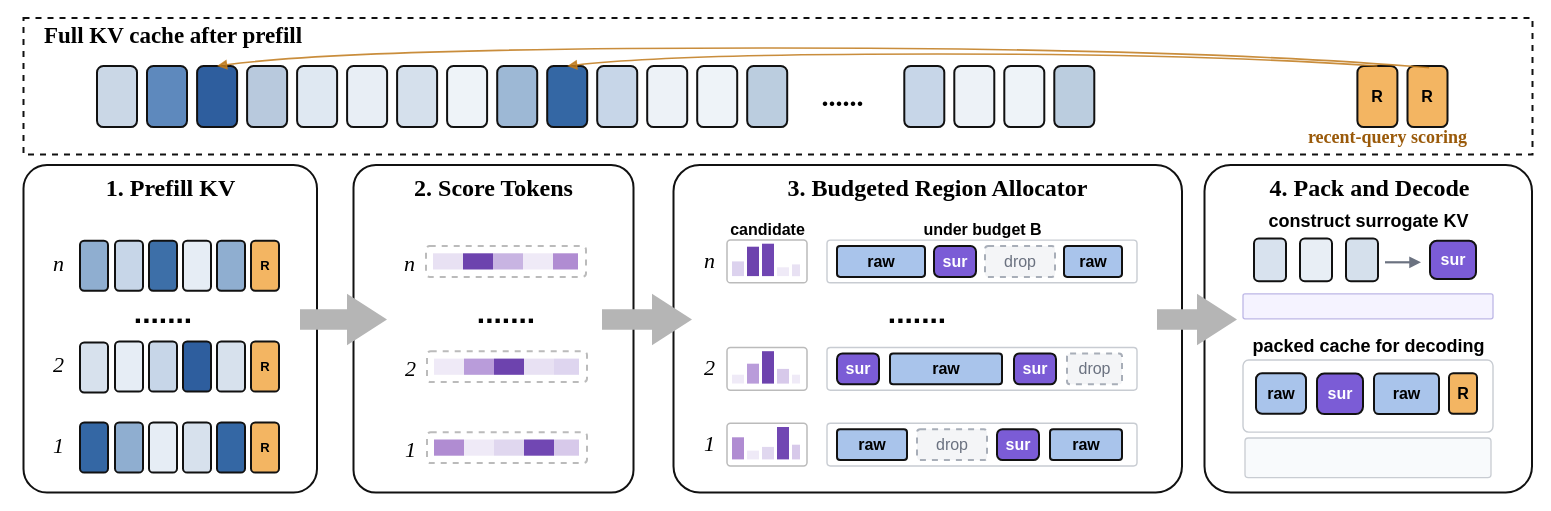
The diagram is 1551 pixels wide and 511 high, and some of its shapes have lost their labels. The shapes that lost their labels are listed below. From the top down, each one's centre as x and y in pixels, then its label:
point (1367, 306): mean + norm/RMS
point (1367, 457): standard attention KV vectors
